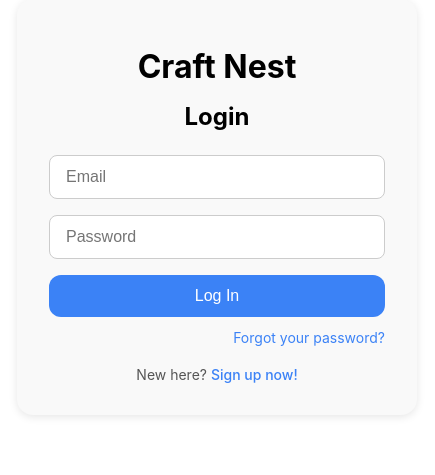
Login Component Given/When/Then Tests › Given wrong credentials, When form submitted, Then show "Invalid credentials."
Type "bad@x.com" into the field with placeholder "Email". click: (217, 177)
box: top-left (49, 155), bottom-right (385, 199)
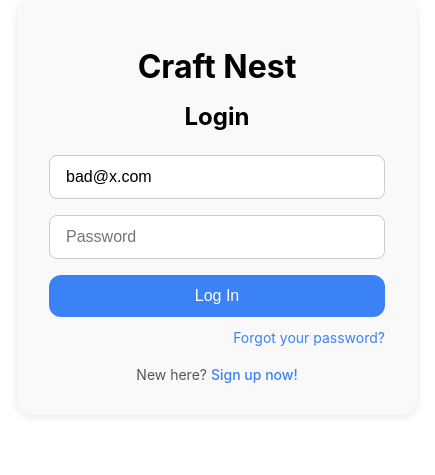
Type "badpass" into the password field with placeholder "Password". click: (217, 237)
box: top-left (49, 215), bottom-right (385, 259)
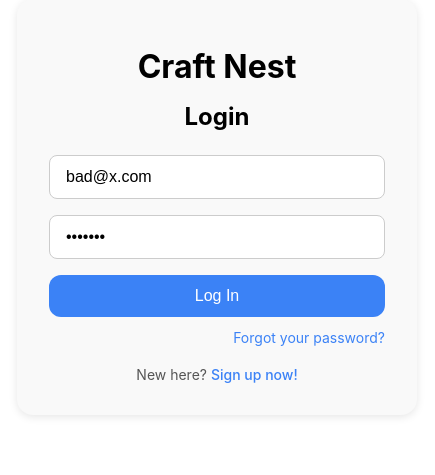
Click the button "Log In". click: (217, 296)
box: top-left (49, 275), bottom-right (385, 317)
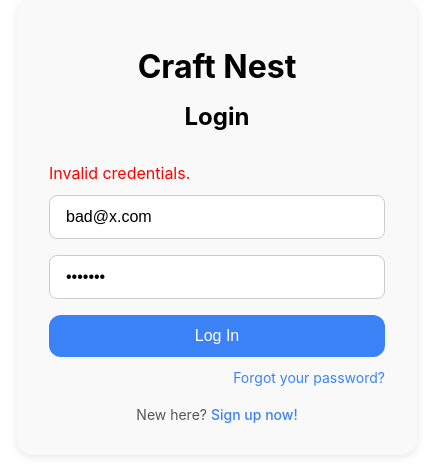
Result: the text "Invalid credentials." is shown at top-left (49, 163), bottom-right (190, 183)
